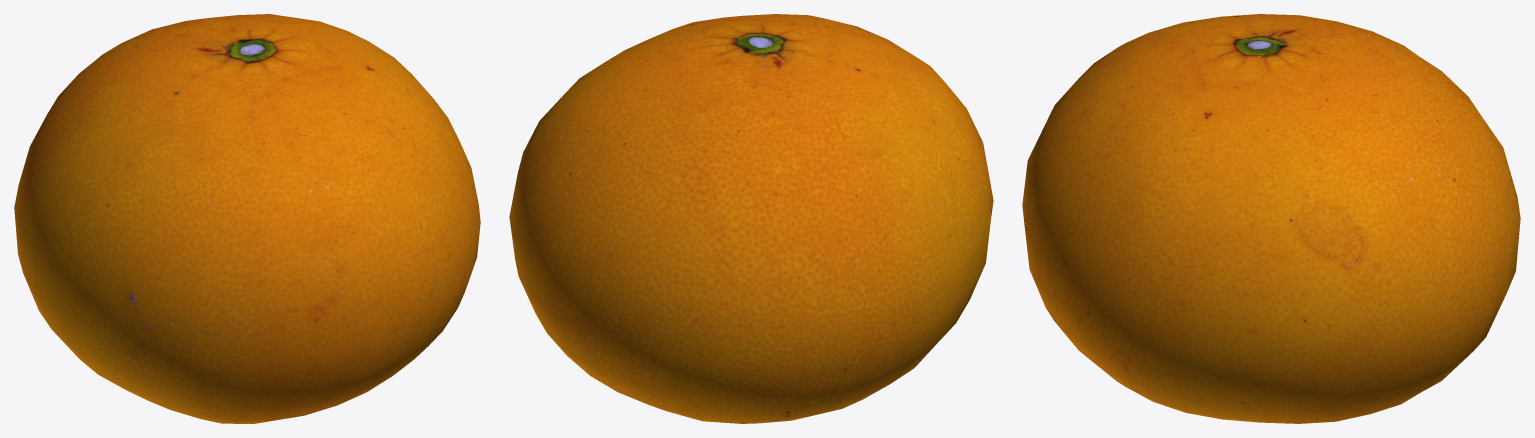
The model's file is realorange.glb.
3 renders of one model, left to right at view 1: azimuth 30°, elevation 25°; view 2: azimuth 150°, elevation 25°; view 3: azimuth 270°, elevation 25°, orthographic. The views are drawn at different scales.
Visible parts, largest first — view 1: Mandarin Orange; view 2: Mandarin Orange; view 3: Mandarin Orange.
Boxes of the visible parts, x1=… form: Mandarin Orange: x1=14, y1=14, x2=480, y2=423; Mandarin Orange: x1=509, y1=14, x2=993, y2=423; Mandarin Orange: x1=1022, y1=14, x2=1520, y2=423.
Bounding box in the file's own units: 0.0883 × 0.07 × 0.0922.
Materials: 1 (1 with a texture image).
